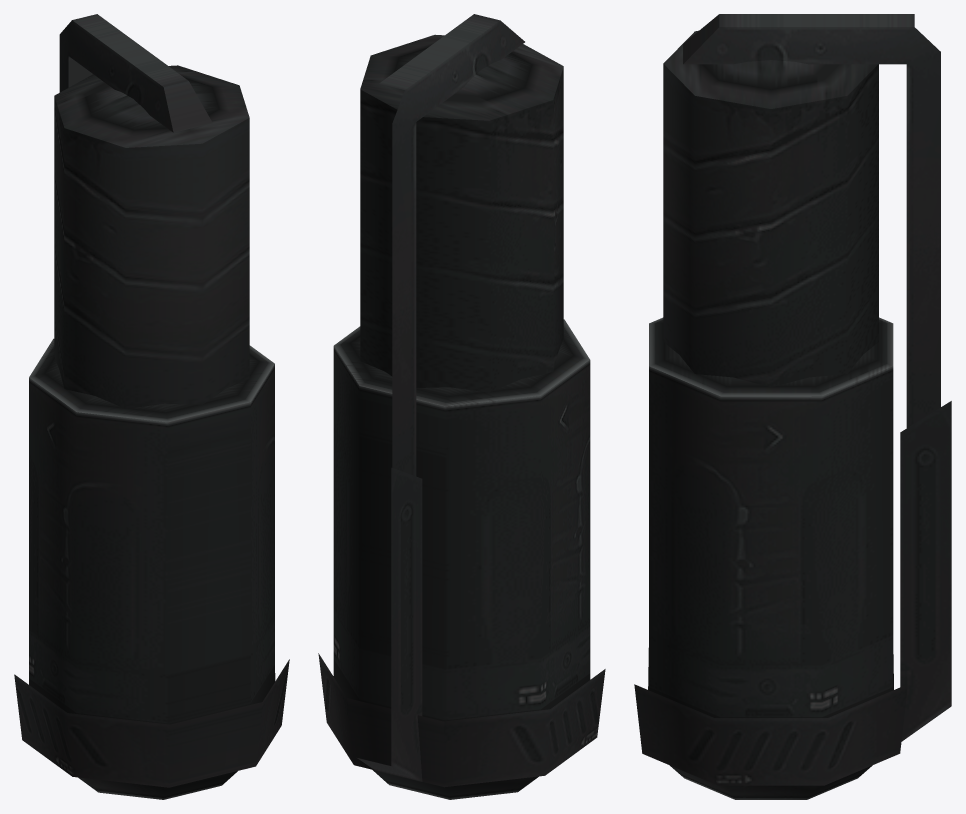
Rendered from part_laser_active.glb.
3 views of the same model, side by side, from view 1: azimuth 30°, elevation 25°; view 2: azimuth 150°, elevation 25°; view 3: azimuth 270°, elevation 25° (orthographic). The views are drawn at different scales.
Parts seen in each view (by area): view 1: twingun.part_laser_active-MeshNodes["part_laser"]; view 2: twingun.part_laser_active-MeshNodes["part_laser"]; view 3: twingun.part_laser_active-MeshNodes["part_laser"].
Boxes of the visible parts, left/top/right/bottom form: twingun.part_laser_active-MeshNodes["part_laser"]: left=14, top=14, right=289, bottom=799; twingun.part_laser_active-MeshNodes["part_laser"]: left=318, top=14, right=605, bottom=799; twingun.part_laser_active-MeshNodes["part_laser"]: left=634, top=14, right=951, bottom=799.
Bounding box in the file's own units: 2.12 × 6.34 × 2.46.
1 material, 1 textured.
